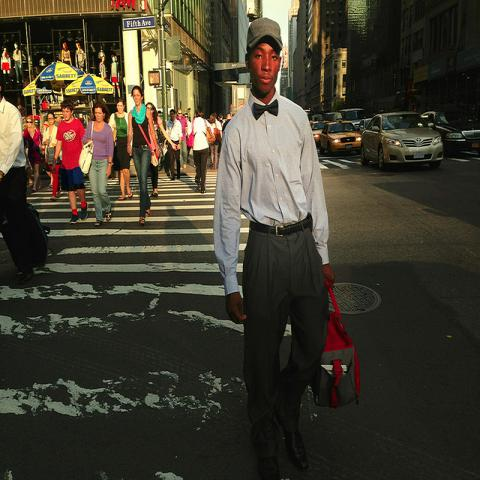car: (360, 111, 444, 170), (419, 108, 479, 158), (318, 122, 362, 158), (340, 109, 366, 129), (309, 119, 326, 141)
